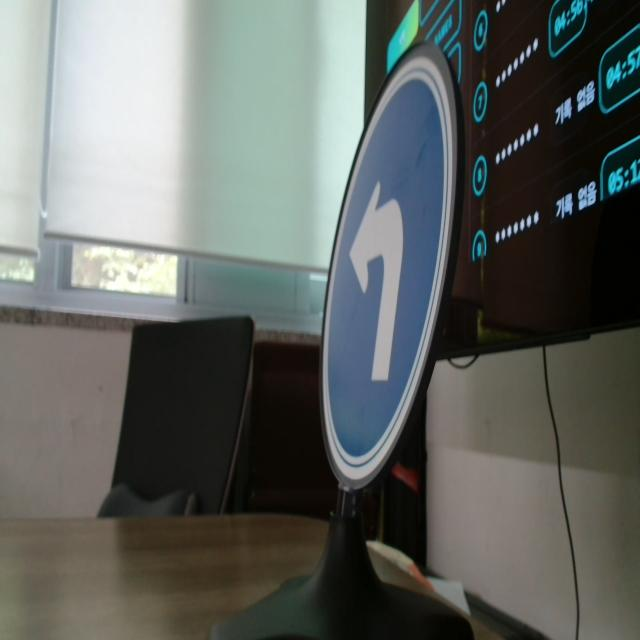left_direction: (314, 40, 459, 500)
